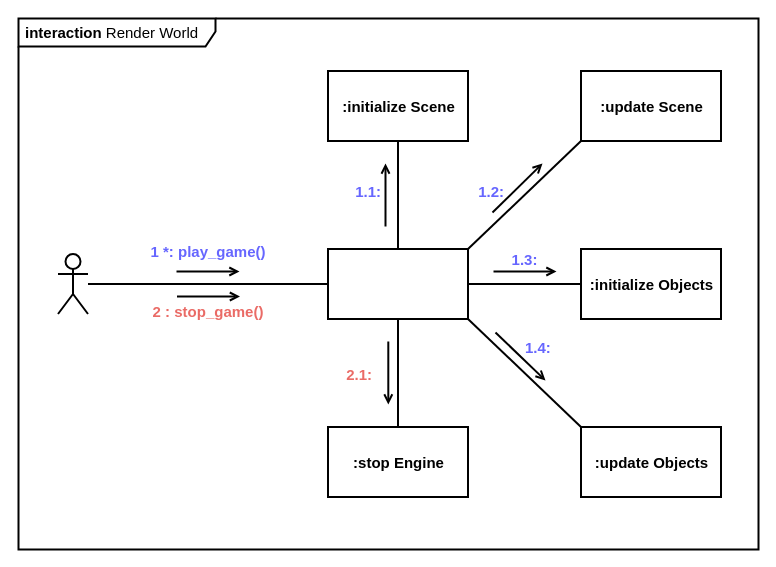
The diagram is 776 pixels wide and 567 high, and some of its shapes have lost their labels. The shapes that lost their labels are listed below. From the top down, each one's centre as x and y in pixels, then its label:
the point at 72,283: Gamer
the point at 397,284: :World Loop
